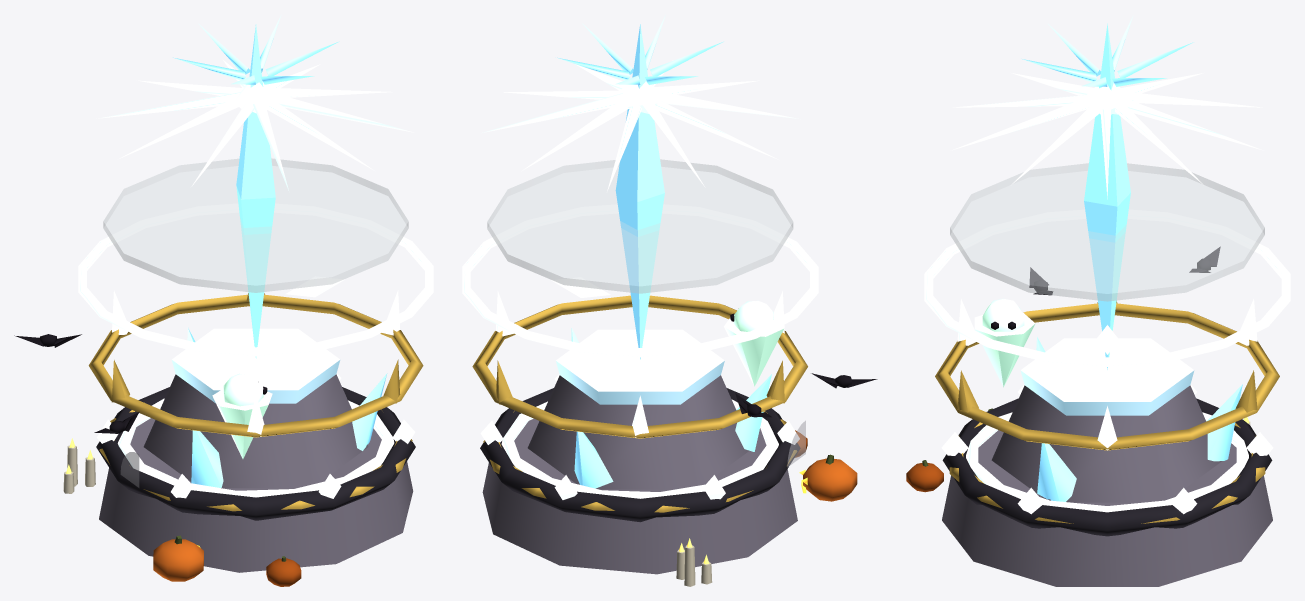
Rendered from tower_freeze_winter_ultimate.glb.
3 renders of one model, left to right at view 1: azimuth 30°, elevation 25°; view 2: azimuth 150°, elevation 25°; view 3: azimuth 270°, elevation 25°, orthographic. The views are drawn at different scales.
Parts seen in each view (by area): view 1: winter_mist, base, pedestal, ult_crown_band, base_rim, pedestal_frost, ult_halo, crystal, aura_ring, deco_hw_jack_body, side_crystal_1, deco_hw_ghost_sheet (+15 smaller); view 2: winter_mist, base, pedestal, pedestal_frost, base_rim, ult_crown_band, crystal, ult_halo, aura_ring, deco_hw_jack_body, deco_hw_ghost_sheet, side_crystal_2 (+14 smaller); view 3: winter_mist, base, pedestal, pedestal_frost, base_rim, ult_crown_band, ult_halo, crystal, aura_ring, side_crystal_0, deco_hw_ghost_sheet, side_crystal_2 (+12 smaller).
Part boxes in pixels (x1,y1,x2,y2): winter_mist: (103, 158, 408, 292); base: (99, 418, 413, 572); pedestal: (143, 374, 368, 488); ult_crown_band: (88, 294, 423, 437); base_rim: (96, 387, 415, 520); pedestal_frost: (171, 328, 340, 403); ult_halo: (78, 203, 433, 356); crystal: (236, 24, 275, 358); aura_ring: (117, 398, 394, 497); deco_hw_jack_body: (153, 539, 203, 581); side_crystal_1: (191, 430, 223, 487); deco_hw_ghost_sheet: (212, 389, 272, 458); winter_mist: (487, 159, 793, 293); base: (482, 418, 797, 574); pedestal: (527, 375, 749, 489); pedestal_frost: (555, 329, 724, 404); base_rim: (480, 388, 800, 522); ult_crown_band: (472, 295, 807, 438); crystal: (615, 24, 664, 359); ult_halo: (462, 204, 818, 357); aura_ring: (501, 399, 778, 498); deco_hw_jack_body: (803, 458, 857, 501); deco_hw_ghost_sheet: (724, 315, 784, 386); side_crystal_2: (574, 431, 613, 488); winter_mist: (950, 163, 1264, 301); base: (942, 430, 1272, 586); pedestal: (991, 385, 1221, 502); pedestal_frost: (1020, 338, 1194, 415); base_rim: (942, 398, 1272, 536); ult_crown_band: (935, 303, 1279, 450); ult_halo: (924, 209, 1290, 366); crystal: (1084, 23, 1130, 369); aura_ring: (966, 412, 1248, 512); side_crystal_0: (1037, 443, 1076, 501); deco_hw_ghost_sheet: (974, 312, 1035, 387); side_crystal_2: (1206, 384, 1242, 461).
Bounding box in the file's own units: 0.4939 × 0.64 × 0.4484.
